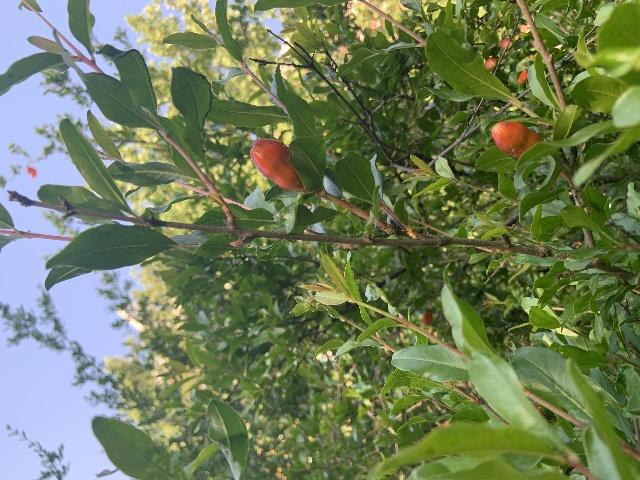bud: (250, 138, 306, 192), (491, 120, 542, 157), (484, 57, 496, 70), (421, 312, 431, 326), (501, 38, 512, 50)
flower: (26, 166, 37, 178)
